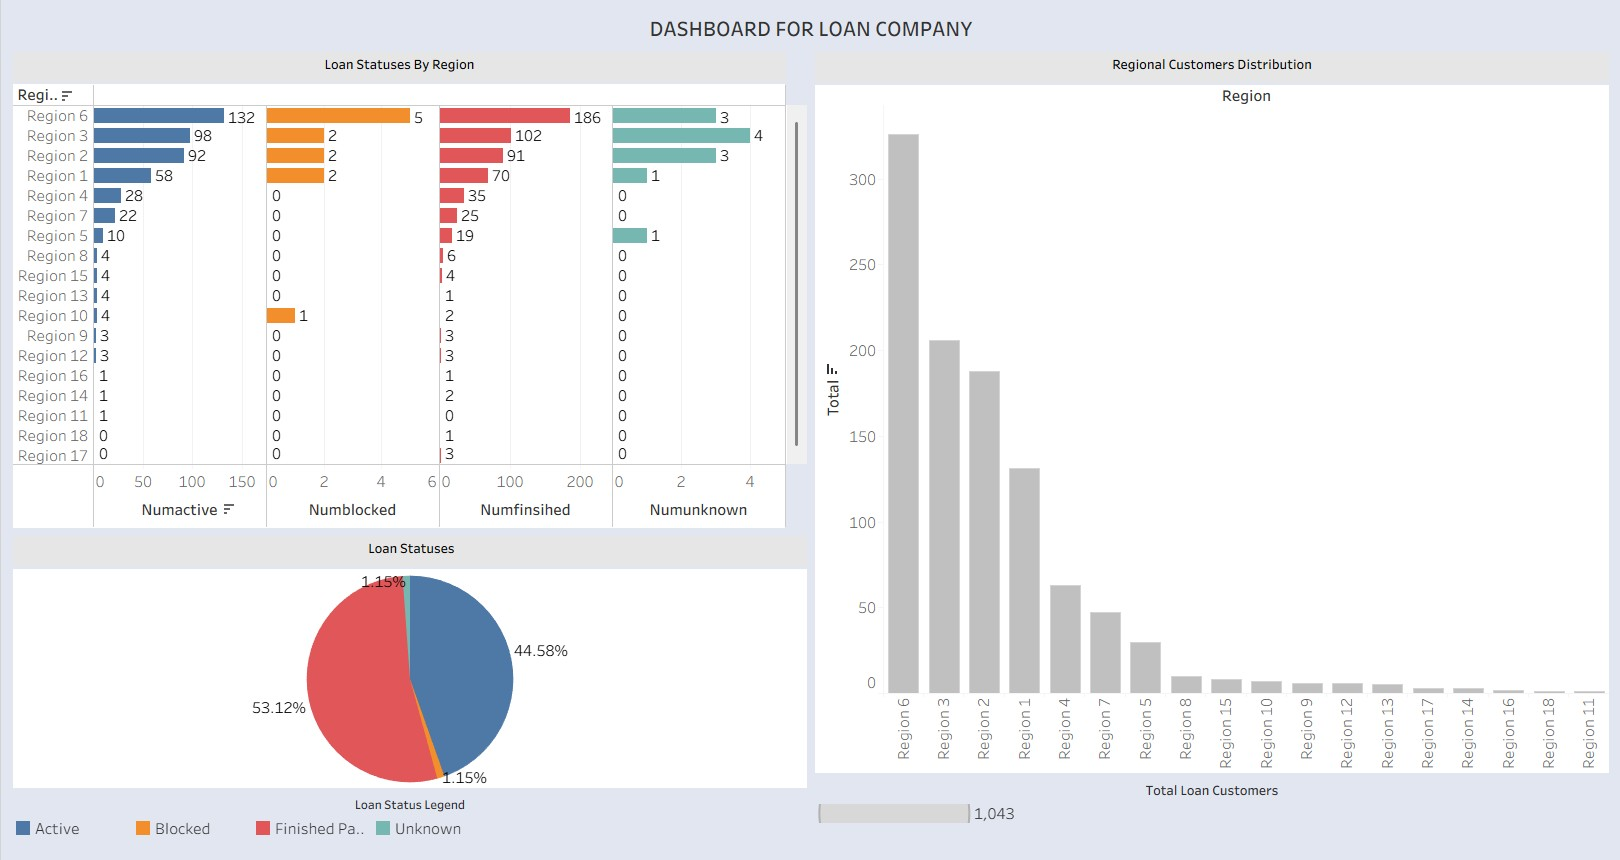

What the dashboard file says about the page in this screenshot:
{"tool":"tableau","page":{"name":"loan-company-dashboard","canvas":[1000,1000],"units":"permille","ordinal":0},"visuals":[{"type":"title","box":[4.9,9.3,990.1,46.5]},{"type":"worksheet","title":"loan-statuses-by-region","mark":"Automatic","rows":["region"],"cols":["numactive","numblocked","numfinsihed","numunknown"],"box":[4.9,55.8,495.1,562.3]},{"type":"worksheet","title":"regional-distribution","mark":"Bar","rows":["total"],"cols":["region"],"box":[500,55.8,495.1,847.7]},{"type":"worksheet","title":"percent_loan_statuses","mark":"Pie","box":[4.9,618.1,495.1,303.1]},{"type":"legend","title":"percent_loan_statuses","param":"[federated.0zuqmm71ah4eri13wqv210v0yeob].[sum:total:qk]","box":[500,903.5,495.1,87.2]},{"type":"legend","title":"percent_loan_statuses","param":"[federated.0zuqmm71ah4eri13wqv210v0yeob].[none:loanstatus:nk]","box":[4.9,921.3,495.1,69.4]}]}

Visuals, with their boxes on the dashboard's canvas, which has no fixed pixel size, in thousandths of its width and height (x1, y1, x2, y2). These are canvas units, not pixel positions in the 1620x860 screenshot, which may show the page scaled, cropped or inside an application window:
title: (5, 9, 995, 56)
"loan-statuses-by-region" worksheet: (5, 56, 500, 618)
"regional-distribution" worksheet (Bar marks): (500, 56, 995, 904)
"percent_loan_statuses" worksheet (Pie marks): (5, 618, 500, 921)
"percent_loan_statuses" legend: (500, 904, 995, 991)
"percent_loan_statuses" legend: (5, 921, 500, 991)
